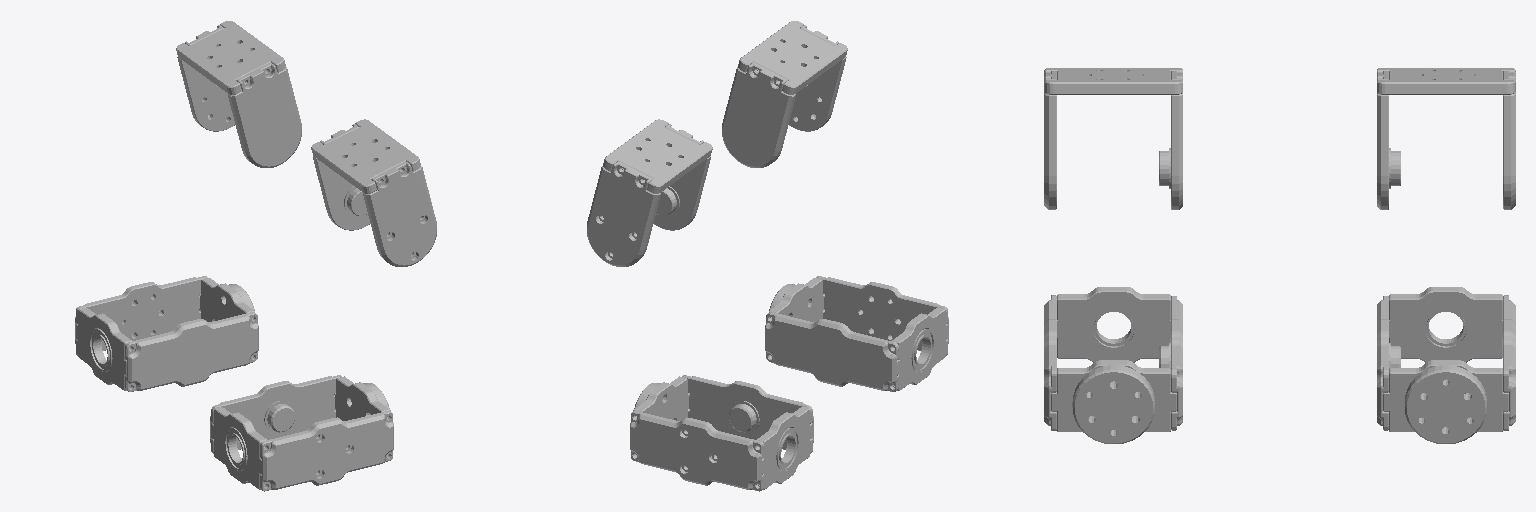
URDF robot description (pi_12dof_release_v1):
<?xml version="1.0" encoding="utf-8"?>
<robot name="pi_12dof_release_v1">
	<link name="base_link">
		<inertial>
			<origin xyz="0.00242324 -5.699E-05 0.04030078" rpy="0 0 0" />
			<mass value="2.1609" />
			<inertia ixx="0.00900968" ixy="-2.533E-05" ixz="-0.00013112" iyy="0.00978166" iyz="2E-07" izz="0.00416554" />
		</inertial>
		<visual>
			<origin xyz="0 0 0" rpy="0 0 0" />
			<geometry>
				<!-- <box size="0.1 0.1 0.1" /> -->
				<mesh filename="baselink_1.STL" />
			</geometry>
			<material name="">
				<color rgba="1 1 1 1" />
			</material>
		</visual>
		<collision>
			<origin xyz="0 0 0.08" rpy="0 0 0" />
			<geometry>
				<box size="0.1 0.1 0.1" />
				<!-- <mesh filename="base_link.STL" /> -->
			</geometry>
		</collision>
	</link>
	<link name="r_hip_pitch_link">
		<inertial>
			<origin xyz="0.00089428 -0.05527744 -0.00027276" rpy="0 0 0" />
			<mass value="0.36999771" />
			<inertia ixx="8.307E-05" ixy="2E-07" ixz="-5E-08" iyy="9.81E-05" iyz="-7E-07" izz="0.0001085" />
		</inertial>
		<visual>
			<origin xyz="0 0 0" rpy="0 0 0" />
			<geometry>
				<mesh filename="r_hip_pitch_link.STL" />
			</geometry>
			<material name="">
				<color rgba="0.75294 0.75294 0.75294 1" />
			</material>
		</visual>
		<collision>
			<origin xyz="0 0 0" rpy="0 0 0" />
			<geometry>
				<box size="0.001 0.001 0.001" />
				<!-- <mesh filename="r_hip_pitch_link.STL" /> -->
			</geometry>
		</collision>
	</link>
	<joint name="r_hip_pitch_joint" type="revolute">
		<origin xyz="-5.1979E-05 -0.0233 -0.033" rpy="0 -0.25 0" />
		<parent link="base_link" />
		<child link="r_hip_pitch_link" />
		<axis xyz="0 1 0" />
		<limit lower="-1.25" upper="1.75" effort="21" velocity="21" />
	</joint>
	<link name="r_hip_roll_link">
		<inertial>
			<origin xyz="-0.00180153 0.00025956 -0.0608194" rpy="0 0 0" />
			<mass value="0.38851552" />
			<inertia ixx="0.00027042" ixy="3.9E-07" ixz="3.312E-05" iyy="0.0003342" iyz="8.7E-07" izz="0.00013617" />
		</inertial>
		<visual>
			<origin xyz="0 0 0" rpy="0 0 0" />
			<geometry>
				<mesh filename="r_hip_roll_link.STL" />
			</geometry>
			<material name="">
				<color rgba="0.75294 0.75294 0.75294 1" />
			</material>
		</visual>
		<collision>
			<origin xyz="0 0 0" rpy="0 0 0" />
			<geometry>
				<box size="0.001 0.001 0.001" />
				<!-- <mesh filename="r_hip_roll_link.STL" /> -->
			</geometry>
		</collision>
	</link>
	<joint name="r_hip_roll_joint" type="revolute">
		<origin xyz="0.00025 -0.0568 0" rpy="0 0 0" />
		<parent link="r_hip_pitch_link" />
		<child link="r_hip_roll_link" />
		<axis xyz="1 0 0" />
		<limit lower="-0.5" upper="0.12" effort="21" velocity="21" />
	</joint>
	<link name="r_thigh_link">
		<inertial>
			<origin xyz="0 0.00116854 -0.04755896" rpy="0 0 0" />
			<mass value="0.11270879" />
			<inertia ixx="0.00012496" ixy="0" ixz="0" iyy="5.82E-05" iyz="3.19E-06" izz="9.438E-05" />
		</inertial>
		<visual>
			<origin xyz="0 0 0" rpy="0 0 0" />
			<geometry>
				<mesh filename="r_thigh_link.STL" />
			</geometry>
			<material name="">
				<color rgba="0.75294 0.75294 0.75294 1" />
			</material>
		</visual>
		<collision>
			<origin xyz="0 0 0" rpy="0 0 0" />
			<geometry>
				<box size="0.001 0.001 0.001" />
				<!-- <mesh filename="r_thigh_link.STL" /> -->
			</geometry>
		</collision>
	</link>
	<joint name="r_thigh_joint" type="revolute">
		<origin xyz="-0.00025 0 -0.06925" rpy="0 0 0" />
		<parent link="r_hip_roll_link" />
		<child link="r_thigh_link" />
		<axis xyz="0 0 1" />
		<limit lower="-0.6" upper="0.3" effort="21" velocity="21" />
	</joint>
	<link name="r_calf_link">
		<inertial>
			<origin xyz="-0.00026627 -0.00116537 -0.06971210" rpy="0 0 0" />
			<mass value="0.81374212" />
			<inertia ixx="0.00352123" ixy="0.00000020" ixz="-0.00000072" iyy="0.00349946" iyz="-0.00002072" izz="0.00017468" />
		</inertial>
		<visual>
			<origin xyz="0 0 0" rpy="0 0 0" />
			<geometry>
				<mesh filename="r_calf_link.STL" />
			</geometry>
			<material name="">
				<color rgba="0.75294 0.75294 0.75294 1" />
			</material>
		</visual>
		<collision>
			<origin xyz="0 0 0" rpy="0 0 0" />
			<geometry>
				<box size="0.001 0.001 0.001" />
				<!-- <mesh filename="r_calf_link.STL" /> -->
			</geometry>
		</collision>
	</link>
	<joint name="r_calf_joint" type="revolute">
		<origin xyz="0 -0.0027 -0.07025" rpy="0 0.65 0" />
		<parent link="r_thigh_link" />
		<child link="r_calf_link" />
		<axis xyz="0 1 0" />
		<limit lower="-0.65" upper="1.65" effort="21" velocity="21" />
	</joint>
	<link name="r_ankle_pitch_link">
		<inertial>
			<origin xyz="0.00467932 0.00347699 0" rpy="0 0 0" />
			<mass value="0.1759244" />
			<inertia ixx="0.00011981" ixy="6.4E-07" ixz="0" iyy="0.00022179" iyz="0" izz="0.00030766" />
		</inertial>
		<visual>
			<origin xyz="0 0 0" rpy="0 0 0" />
			<geometry>
				<mesh filename="r_ankle_pitch_link.STL" />
			</geometry>
			<material name="">
				<color rgba="0.75294 0.75294 0.75294 1" />
			</material>
		</visual>
		<collision>
			<origin xyz="0 0 0" rpy="0 0 0" />
			<geometry>
				<box size="0.001 0.001 0.001" />
				<!-- <mesh filename="r_ankle_pitch_link.STL" /> -->
			</geometry>
		</collision>
	</link>
	<joint name="r_ankle_pitch_joint" type="revolute">
		<origin xyz="0 0 -0.14" rpy="0 -0.4 0" />
		<parent link="r_calf_link" />
		<child link="r_ankle_pitch_link" />
		<axis xyz="0 1 0" />
		<limit lower="-0.5" upper="1.3" effort="21" velocity="21" />
	</joint>
	<link name="r_ankle_roll_link">
		<inertial>
			<origin xyz="-0.02383679 0.00019256 -0.0144649" rpy="0 0 0" />
			<mass value="0.51868476" />
			<inertia ixx="0.0003308" ixy="-2.49E-06" ixz="-0.00018245" iyy="0.00113168" iyz="-1.06E-06" izz="0.00098381" />
		</inertial>
		<visual>
			<origin xyz="0 0 0" rpy="0 0 0" />
			<geometry>
				<mesh filename="r_ankle_roll_link.STL" />
			</geometry>
			<material name="">
				<color rgba="0.75294 0.75294 0.75294 1" />
			</material>
		</visual>
		<collision>
			<origin xyz="0 0 0" rpy="0 0 0" />
			<geometry>
				<mesh filename="r_ankle_roll_link.STL" />
			</geometry>
		</collision>
	</link>
	<joint name="r_ankle_roll_joint" type="revolute">
		<origin xyz="0.07525 0.0027 0" rpy="0 0 0" />
		<parent link="r_ankle_pitch_link" />
		<child link="r_ankle_roll_link" />
		<axis xyz="1 0 0" />
		<limit lower="-0.3" upper="0.8" effort="21" velocity="21" />
	</joint>
	<link name="l_hip_pitch_link">
		<inertial>
			<origin xyz="0.00086268 0.05441908 -0.00025859" rpy="0 0 0" />
			<mass value="0.38968624" />
			<inertia ixx="0.00010076" ixy="-4.2E-07" ixz="-4E-08" iyy="0.00010507" iyz="-3E-07" izz="0.00012834" />
		</inertial>
		<visual>
			<origin xyz="0 0 0" rpy="0 0 0" />
			<geometry>
				<mesh filename="l_hip_pitch_link.STL" />
			</geometry>
			<material name="">
				<color rgba="0.75294 0.75294 0.75294 1" />
			</material>
		</visual>
		<collision>
			<origin xyz="0 0 0" rpy="0 0 0" />
			<geometry>
				<box size="0.001 0.001 0.001" />
				<!-- <mesh filename="l_hip_pitch_link.STL" /> -->
			</geometry>
		</collision>
	</link>
	<joint name="l_hip_pitch_joint" type="revolute">
		<origin xyz="-5.1979E-05 0.0233 -0.033" rpy="0 -0.25 0" />
		<parent link="base_link" />
		<child link="l_hip_pitch_link" />
		<axis xyz="0 1 0" />
		<limit lower="-1.25" upper="1.75" effort="21" velocity="21" />
	</joint>
	<link name="l_hip_roll_link">
		<inertial>
			<origin xyz="-0.00207707 0.00026598 -0.0608194" rpy="0 0 0" />
			<mass value="0.38851552" />
			<inertia ixx="0.00027068" ixy="-7.6E-07" ixz="3.136E-05" iyy="0.0003332" iyz="8.8E-07" izz="0.00013543" />
		</inertial>
		<visual>
			<origin xyz="0 0 0" rpy="0 0 0" />
			<geometry>
				<mesh filename="l_hip_roll_link.STL" />
			</geometry>
			<material name="">
				<color rgba="0.75294 0.75294 0.75294 1" />
			</material>
		</visual>
		<collision>
			<origin xyz="0 0 0" rpy="0 0 0" />
			<geometry>
				<box size="0.001 0.001 0.001" />
				<!-- <mesh filename="l_hip_roll_link.STL" /> -->
			</geometry>
		</collision>
	</link>
	<joint name="l_hip_roll_joint" type="revolute">
		<origin xyz="0 0.0568 0" rpy="0 0 0" />
		<parent link="l_hip_pitch_link" />
		<child link="l_hip_roll_link" />
		<axis xyz="1 0 0" />
		<limit lower="-0.12" upper="0.5" effort="21" velocity="21" />
	</joint>
	<link name="l_thigh_link">
		<inertial>
			<origin xyz="0 -0.00115822 -0.04755896" rpy="0 0 0" />
			<mass value="0.11270879" />
			<inertia ixx="0.00012497" ixy="0" ixz="0" iyy="5.82E-05" iyz="-3.21E-06" izz="9.438E-05" />
		</inertial>
		<visual>
			<origin xyz="0 0 0" rpy="0 0 0" />
			<geometry>
				<mesh filename="l_thigh_link.STL" />
			</geometry>
			<material name="">
				<color rgba="0.75294 0.75294 0.75294 1" />
			</material>
		</visual>
		<collision>
			<origin xyz="0 0 0" rpy="0 0 0" />
			<geometry>
				<box size="0.001 0.001 0.001" />
				<!-- <mesh filename="l_thigh_link.STL" /> -->
			</geometry>
		</collision>
	</link>
	<joint name="l_thigh_joint" type="revolute">
		<origin xyz="0 0 -0.06925" rpy="0 0 0" />
		<parent link="l_hip_roll_link" />
		<child link="l_thigh_link" />
		<axis xyz="0 0 1" />
		<limit lower="-0.3" upper="0.6" effort="21" velocity="21" />
	</joint>
	<link name="l_calf_link">
		<inertial>
			<origin xyz="0.00026627 0.00386537 -0.06971210" rpy="0 0 0" />
			<mass value="0.81374212" />
			<inertia ixx="0.00352123" ixy="0.00000020" ixz="0.00000072" iyy="0.00349946" iyz="0.00002072" izz="0.00017468" />
		</inertial>
		<visual>
			<origin xyz="0 0 0" rpy="0 0 0" />
			<geometry>
				<mesh filename="l_calf_link.STL" />
			</geometry>
			<material name="">
				<color rgba="0.75294 0.75294 0.75294 1" />
			</material>
		</visual>
		<collision>
			<origin xyz="0 0 0" rpy="0 0 0" />
			<geometry>
				<box size="0.001 0.001 0.001" />
				<!-- <mesh filename="l_calf_link.STL" /> -->
			</geometry>
		</collision>
	</link>
	<joint name="l_calf_joint" type="revolute">
		<origin xyz="0 0 -0.07025" rpy="0 0.65 0" />
		<parent link="l_thigh_link" />
		<child link="l_calf_link" />
		<axis xyz="0 1 0" />
		<limit lower="-0.65" upper="1.65" effort="21" velocity="21" />
	</joint>
	<link name="l_ankle_pitch_link">
		<inertial>
			<origin xyz="0.00467932 -0.00077699 0" rpy="0 0 0" />
			<mass value="0.1759244" />
			<inertia ixx="0.00011981" ixy="-6.4E-07" ixz="0" iyy="0.00022179" iyz="0" izz="0.00030766" />
		</inertial>
		<visual>
			<origin xyz="0 0 0" rpy="0 0 0" />
			<geometry>
				<mesh filename="l_ankle_pitch_link.STL" />
			</geometry>
			<material name="">
				<color rgba="0.75294 0.75294 0.75294 1" />
			</material>
		</visual>
		<collision>
			<origin xyz="0 0 0" rpy="0 0 0" />
			<geometry>
				<box size="0.001 0.001 0.001" />
				<!-- <mesh filename="l_ankle_pitch_link.STL" /> -->
			</geometry>
		</collision>
	</link>
	<joint name="l_ankle_pitch_joint" type="revolute">
		<origin xyz="0 0 -0.14" rpy="0 -0.4 0" />
		<parent link="l_calf_link" />
		<child link="l_ankle_pitch_link" />
		<axis xyz="0 1 0" />
		<limit lower="-0.5" upper="1.3" effort="21" velocity="21" />
	</joint>
	<link name="l_ankle_roll_link">
		<inertial>
			<origin xyz="-0.02383679 0.00019256 -0.0144649" rpy="0 0 0" />
			<mass value="0.51868476" />
			<inertia ixx="0.0003308" ixy="-2.49E-06" ixz="-0.00018245" iyy="0.00113168" iyz="-1.06E-06" izz="0.00098381" />
		</inertial>
		<visual>
			<origin xyz="0 0 0" rpy="0 0 0" />
			<geometry>
				<mesh filename="l_ankle_roll_link.STL" />
			</geometry>
			<material name="">
				<color rgba="0.75294 0.75294 0.75294 1" />
			</material>
		</visual>
		<collision>
			<origin xyz="0 0 0" rpy="0 0 0" />
			<geometry>
				<mesh filename="l_ankle_roll_link.STL" />
			</geometry>
		</collision>
	</link>
	<joint name="l_ankle_roll_joint" type="revolute">
		<origin xyz="0.07525 0 0" rpy="0 0 0" />
		<parent link="l_ankle_pitch_link" />
		<child link="l_ankle_roll_link" />
		<axis xyz="1 0 0" />
		<limit lower="-0.8" upper="0.3" effort="21" velocity="21" />
	</joint>
</robot>

--- Render facts (derived) ---
Views: 3 orthographic renders of the robot side by side, from view 1: azimuth 30°, elevation 25°; view 2: azimuth 150°, elevation 25°; view 3: azimuth 270°, elevation 25°.
Model pi_12dof_release_v1 with 13 links and 12 joints (12 revolute), rooted at base_link, posed all joints at 0.
Visible links, largest first — view 1: l_ankle_pitch_link, r_ankle_pitch_link, l_thigh_link, r_thigh_link; view 2: r_ankle_pitch_link, l_ankle_pitch_link, r_thigh_link, l_thigh_link; view 3: l_ankle_pitch_link, r_ankle_pitch_link, r_thigh_link, l_thigh_link.
Boxes of the visible links, x1,y1,x2,y2 form: l_ankle_pitch_link: (75,276,258,391); r_ankle_pitch_link: (210,375,393,491); l_thigh_link: (176,21,301,167); r_thigh_link: (311,119,436,266); r_ankle_pitch_link: (765,276,948,391); l_ankle_pitch_link: (630,375,813,491); r_thigh_link: (722,21,847,167); l_thigh_link: (587,119,712,266); l_ankle_pitch_link: (1377,287,1515,443); r_ankle_pitch_link: (1044,287,1182,443); r_thigh_link: (1044,68,1182,209); l_thigh_link: (1377,68,1515,209).
Bounding box of the posed robot: 0.12 × 0.2272 × 0.1983 m (x, y, z).
4 mesh visuals loaded from 13 distinct referenced files (4 binary STL); not drawn: 9 (reference not matched to a file when rendering).